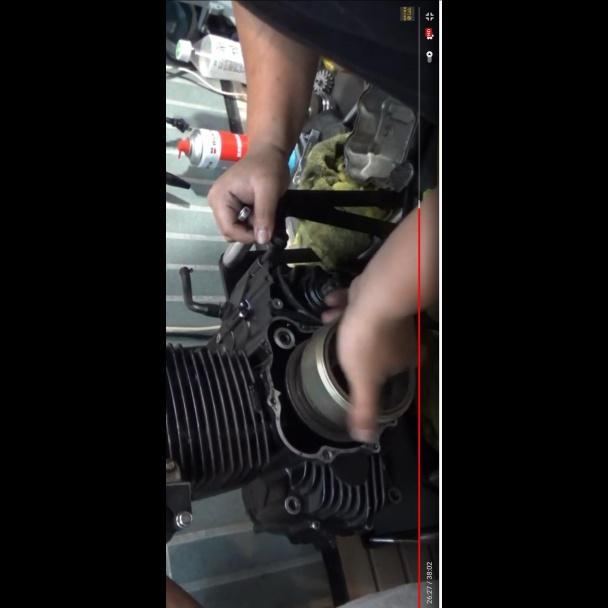hole: (276, 330, 293, 345), (388, 487, 402, 502), (286, 497, 299, 512), (320, 447, 333, 460), (272, 297, 284, 309), (270, 396, 278, 405)
